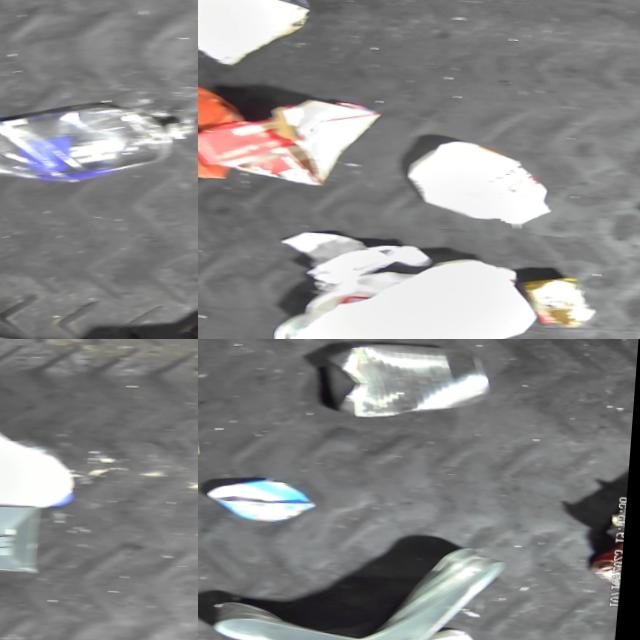can: (315, 339, 497, 421), (205, 471, 325, 523), (390, 329, 517, 339)
milk_jug: (293, 246, 547, 339), (0, 424, 84, 511)
plastic_bottle: (0, 96, 198, 188)
